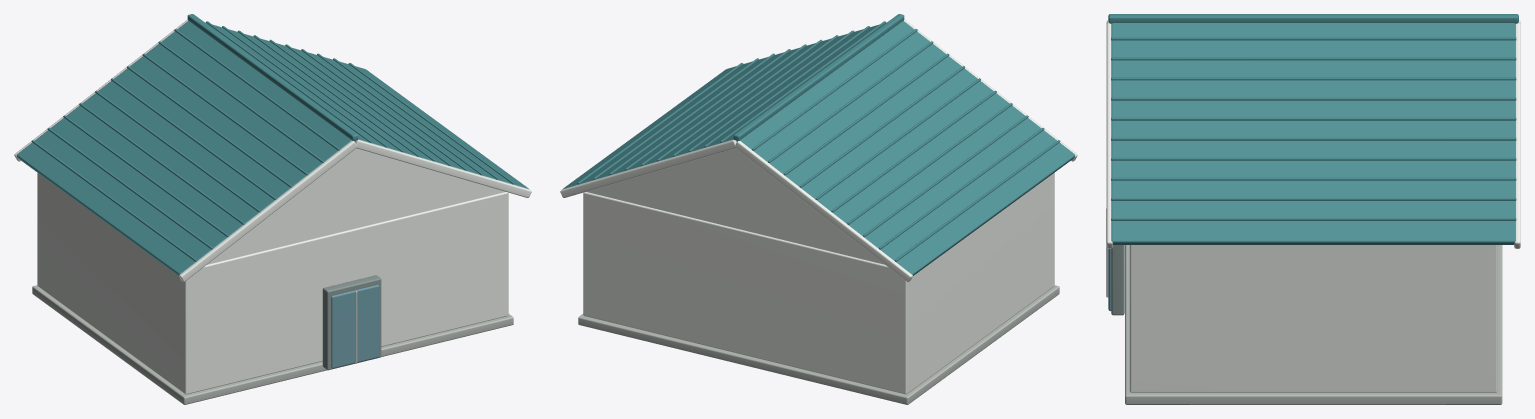
Rendered from pitched.glb.
3 renders of one model, left to right at view 1: azimuth 30°, elevation 25°; view 2: azimuth 150°, elevation 25°; view 3: azimuth 270°, elevation 25°, orthographic. The views are drawn at different scales.
Visible parts, largest first — view 1: Building shell, Pitched roof plane, Triangular gable walls, Pitched roof plane.001, Foundation, Entrance double glass doors, White gable fascia, Roof ridge cap, White gable fascia.002, Entrance door frame, Roof tile course.002, Roof tile course.004 (+18 smaller); view 2: Building shell, Pitched roof plane, Triangular gable walls, Pitched roof plane.001, Foundation, White gable fascia.001, Roof ridge cap, White gable fascia.003, Roof tile course.002, Roof tile course.004, Roof tile course.006, Roof tile course.008 (+16 smaller); view 3: Pitched roof plane.001, Building shell, Foundation, Roof ridge cap, Roof tile course.010, Roof tile course.015, Roof tile course.016, Roof tile course.017, Roof tile course.011, Roof tile course.012, Roof tile course.013, Roof tile course.014 (+5 smaller).
Boxes of the visible parts, bbox=[...] form: Building shell: bbox=[37, 173, 508, 394]; Pitched roof plane: bbox=[16, 21, 354, 275]; Triangular gable walls: bbox=[207, 148, 505, 264]; Pitched roof plane.001: bbox=[205, 22, 528, 188]; Foundation: bbox=[32, 285, 513, 404]; Entrance double glass doors: bbox=[331, 285, 379, 368]; White gable fascia: bbox=[179, 141, 356, 281]; Roof ridge cap: bbox=[187, 14, 358, 140]; White gable fascia.002: bbox=[355, 139, 531, 197]; Entrance door frame: bbox=[322, 275, 381, 370]; Roof tile course.002: bbox=[142, 53, 308, 175]; Roof tile course.004: bbox=[111, 78, 276, 199]; Building shell: bbox=[583, 173, 1054, 394]; Pitched roof plane: bbox=[737, 21, 1075, 275]; Triangular gable walls: bbox=[586, 148, 884, 264]; Pitched roof plane.001: bbox=[563, 22, 886, 188]; Foundation: bbox=[578, 285, 1059, 404]; White gable fascia.001: bbox=[735, 141, 912, 281]; Roof ridge cap: bbox=[733, 14, 904, 140]; White gable fascia.003: bbox=[560, 139, 736, 197]; Roof tile course.002: bbox=[783, 53, 949, 175]; Roof tile course.004: bbox=[815, 78, 980, 199]; Roof tile course.006: bbox=[847, 103, 1012, 224]; Roof tile course.008: bbox=[879, 128, 1044, 249]; Pitched roof plane.001: bbox=[1111, 23, 1515, 244]; Building shell: bbox=[1129, 245, 1497, 392]; Foundation: bbox=[1125, 245, 1502, 404]; Roof ridge cap: bbox=[1108, 14, 1518, 23]; Roof tile course.010: bbox=[1111, 37, 1516, 40]; Roof tile course.015: bbox=[1111, 137, 1516, 140]; Roof tile course.016: bbox=[1111, 157, 1516, 160]; Roof tile course.017: bbox=[1111, 177, 1516, 180]; Roof tile course.011: bbox=[1111, 57, 1516, 60]; Roof tile course.012: bbox=[1111, 77, 1516, 80]; Roof tile course.013: bbox=[1111, 97, 1516, 100]; Roof tile course.014: bbox=[1111, 117, 1516, 120].
Bounding box in the file's own units: 10.63 × 6.8 × 8.79.
